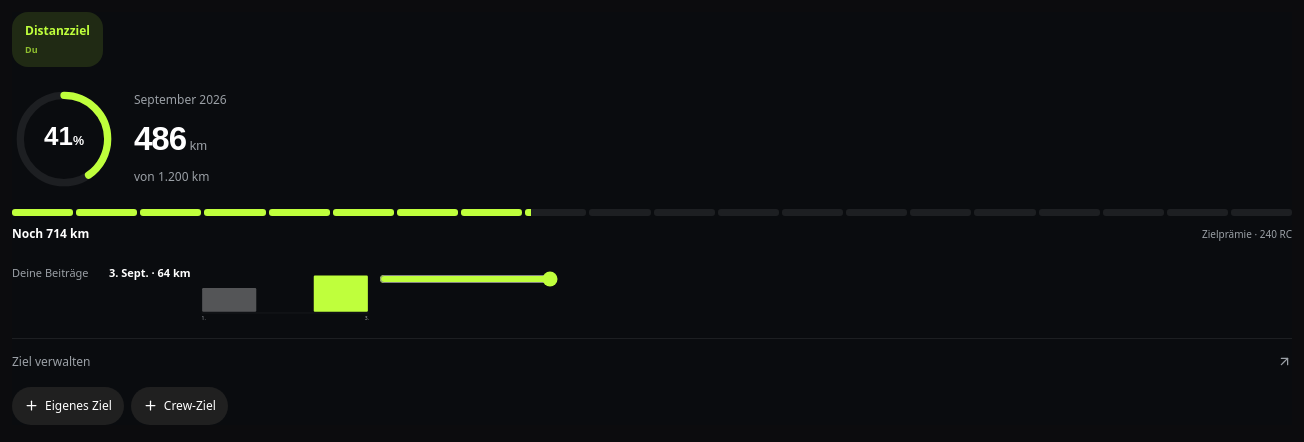
Test: shows real remaining progress and scrubs actual day contributions
Expected: the text "Noch 714 km" is shown, [12, 224, 89, 242]
Set the slider named "Tag des Zielbeitrags auswählen" to "0" at point(387, 278), box [379, 272, 558, 284]
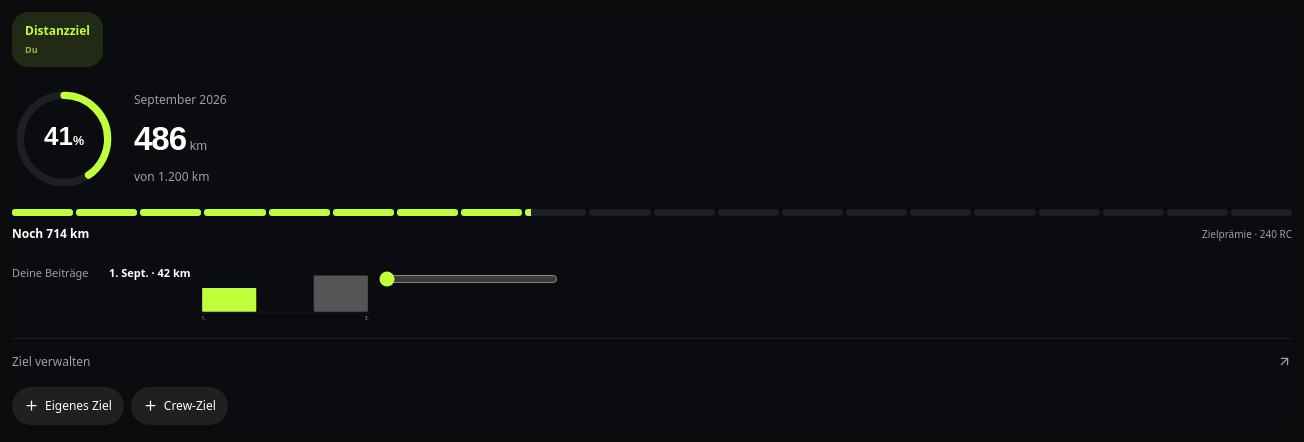
Now the text "1. Sept. · 42 km" is shown, box [109, 264, 191, 280]
